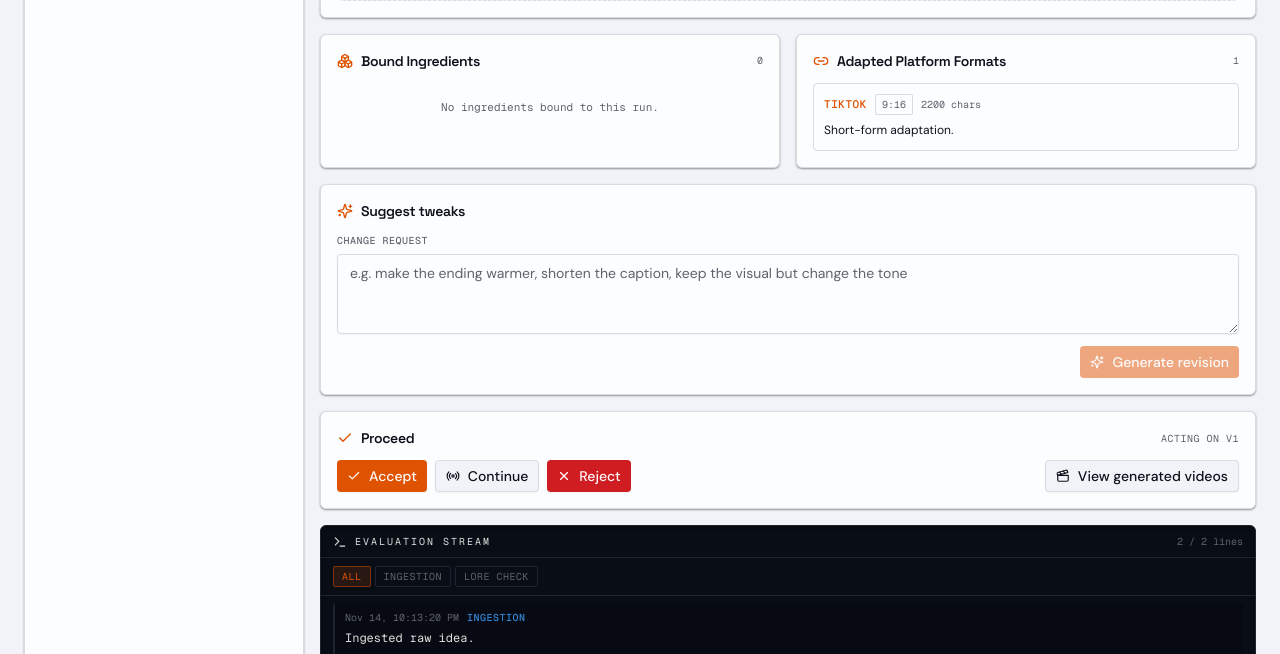
it: SimulationPage › selects an earlier revision and displays its script
This screenshot has width=1280, height=654.
(page scrolled)
Submit a tweak so there are two revisions, then select the original.
In the text box with test id "simulation.tweak.input": (788,294) [337,254,1239,334], type "Make the ending warmer."
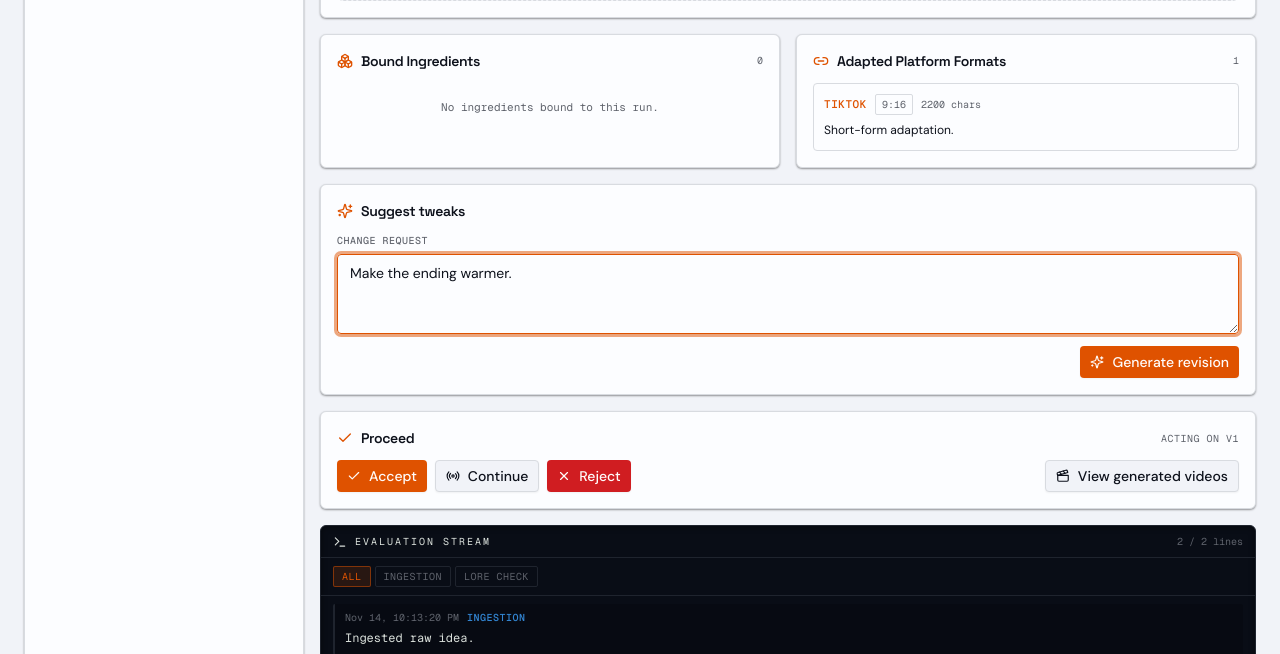
Click the button with test id "simulation.tweak.submit_button": (1160,362) [1080,346,1239,378]
(page scrolled)
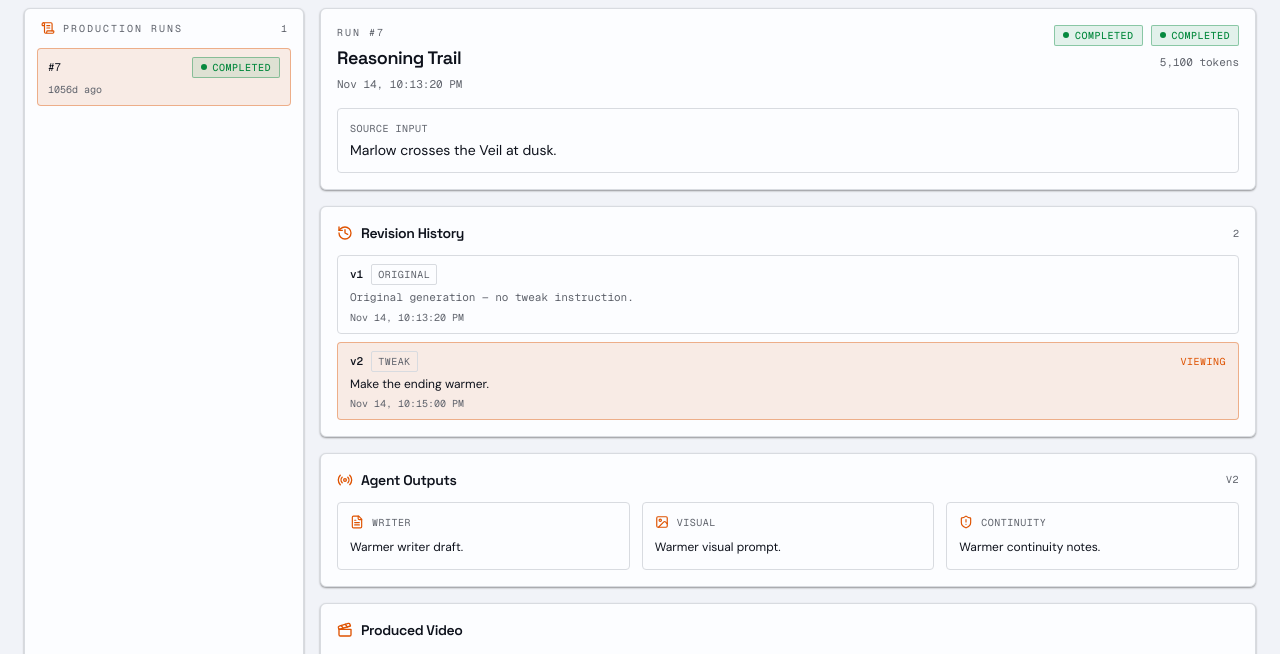
Check: the text "Warmer writer draft." is shown, box [350,538,463,554]
Click the button with test id "simulation.revisions.item": (404,274) [337,255,1239,334]
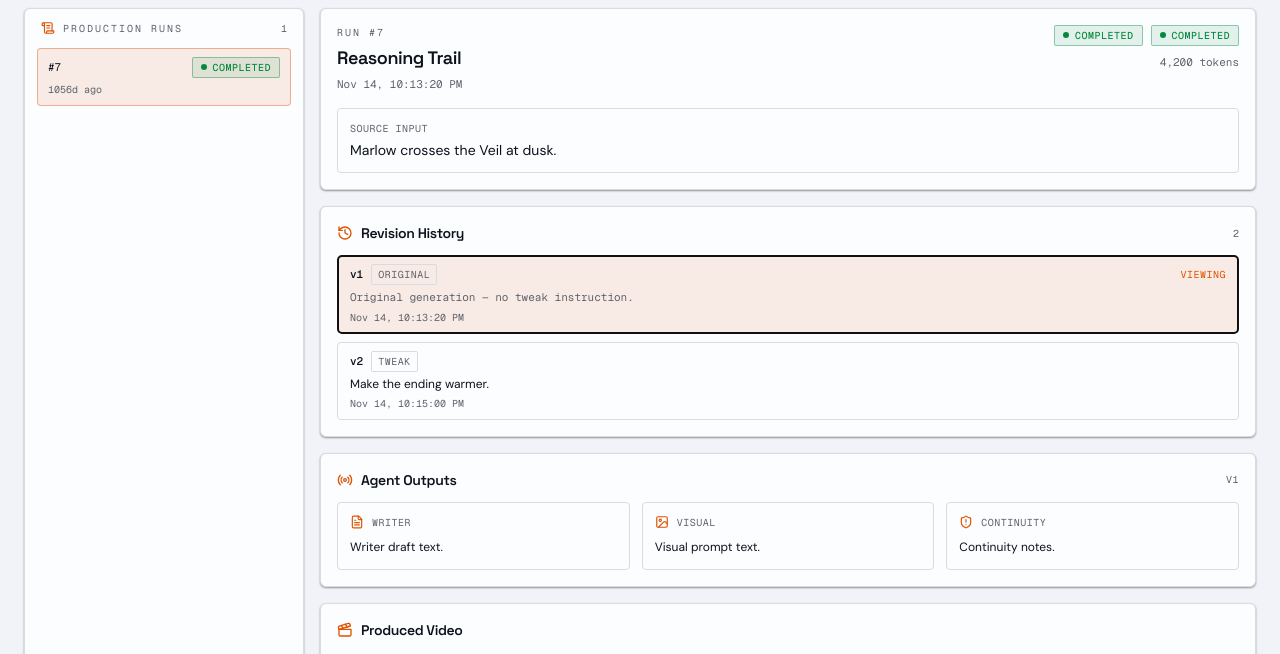
Check: the text "Writer draft text." is shown, box [350,538,443,554]
Check: the text "Warmer writer draft." is gone
